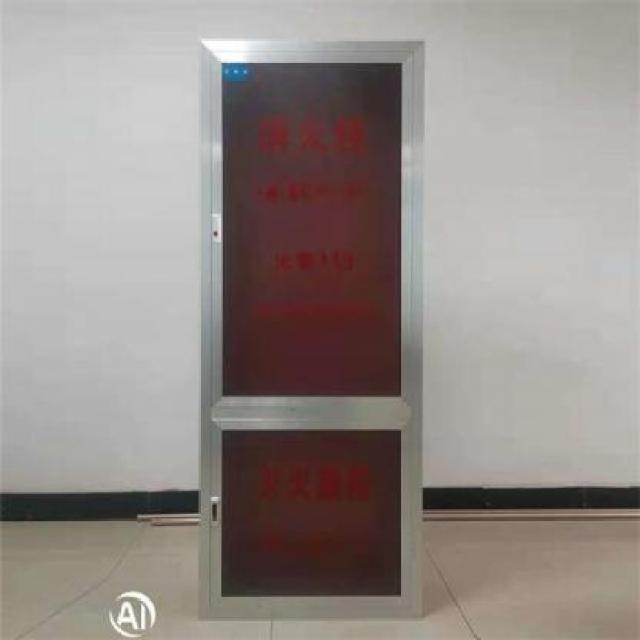firehydrant: (194, 32, 428, 626)
